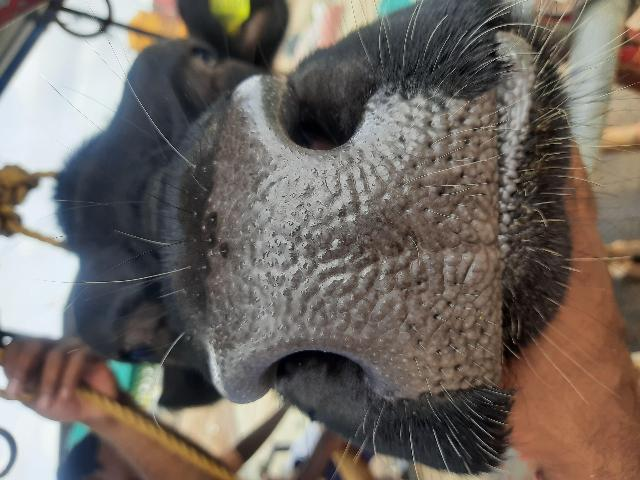Muzzle: (210, 145, 498, 356)
